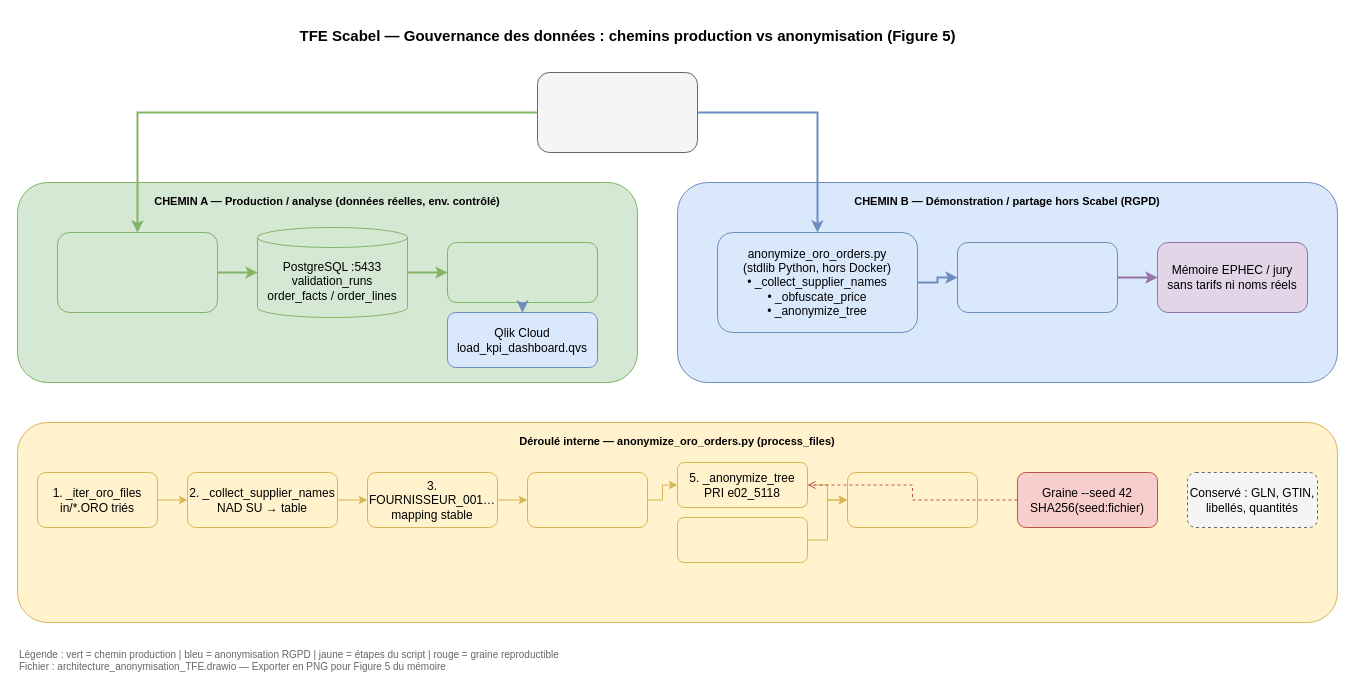
Some shapes in this 1355 by 699 pixel diagram are drawn without their labels. The centre of each missing label's shape, as x and y in pixels:
4. _parse_tree ISO-8859-15: the point at 587,500
6. _anonymize_tree NAD SU e01_3036: the point at 742,539
7. _write_oro out_anonymized/: the point at 912,500
make db-push-railway sync_railway.py: the point at 522,272
out_anonymized/*.ORO copies pseudonymisées: the point at 1037,277
Répertoire in/*.ORO (originaux intacts) ISO-8859-15: the point at 617,112
Validateur Docker validator/app/engine.py R01–R10 + extract.py: the point at 137,272
